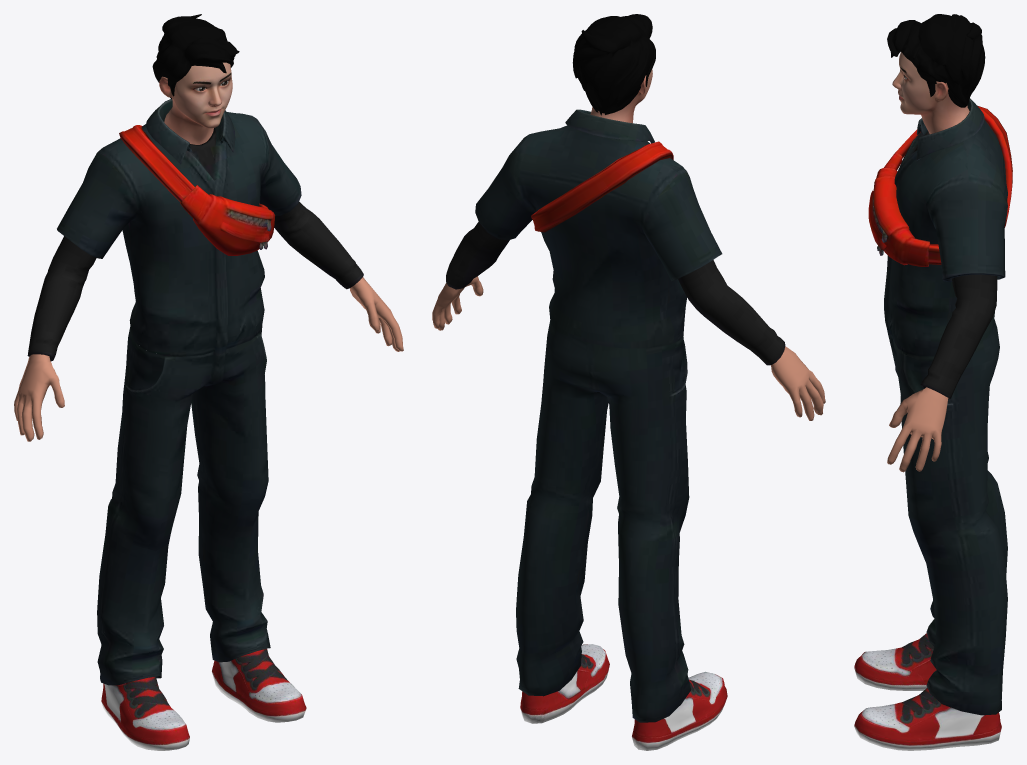
File: avatar.gltf
The picture shows the model from 3 angles, left to right: view 1: azimuth 30°, elevation 25°; view 2: azimuth 150°, elevation 25°; view 3: azimuth 270°, elevation 25°; orthographic projection.
Visible parts, largest first — view 1: Wolf3D_Outfit_Top, Wolf3D_Outfit_Bottom, Wolf3D_Outfit_Footwear, Wolf3D_Body, Wolf3D_Head, Wolf3D_Hair; view 2: Wolf3D_Outfit_Bottom, Wolf3D_Outfit_Top, Wolf3D_Outfit_Footwear, Wolf3D_Hair, Wolf3D_Body, Wolf3D_Head; view 3: Wolf3D_Outfit_Top, Wolf3D_Outfit_Bottom, Wolf3D_Outfit_Footwear, Wolf3D_Hair, Wolf3D_Body, Wolf3D_Head.
Part boxes in pixels (left/top/right/bottom): Wolf3D_Outfit_Top: left=27, top=99, right=363, bottom=361; Wolf3D_Outfit_Bottom: left=97, top=325, right=270, bottom=685; Wolf3D_Outfit_Footwear: left=101, top=648, right=306, bottom=750; Wolf3D_Body: left=14, top=277, right=403, bottom=441; Wolf3D_Head: left=159, top=62, right=232, bottom=144; Wolf3D_Hair: left=152, top=14, right=239, bottom=99; Wolf3D_Outfit_Bottom: left=516, top=320, right=691, bottom=722; Wolf3D_Outfit_Top: left=446, top=109, right=785, bottom=365; Wolf3D_Outfit_Footwear: left=520, top=644, right=727, bottom=750; Wolf3D_Hair: left=572, top=14, right=655, bottom=115; Wolf3D_Body: left=432, top=276, right=825, bottom=420; Wolf3D_Head: left=590, top=69, right=652, bottom=123; Wolf3D_Outfit_Top: left=868, top=98, right=1012, bottom=398; Wolf3D_Outfit_Bottom: left=888, top=319, right=1007, bottom=715; Wolf3D_Outfit_Footwear: left=854, top=633, right=1001, bottom=750; Wolf3D_Hair: left=887, top=14, right=985, bottom=107; Wolf3D_Body: left=887, top=387, right=948, bottom=472; Wolf3D_Head: left=892, top=52, right=969, bottom=134.
Bounding box in the file's own units: 1.06 × 1.86 × 0.3862.
9 materials, 9 textured.
